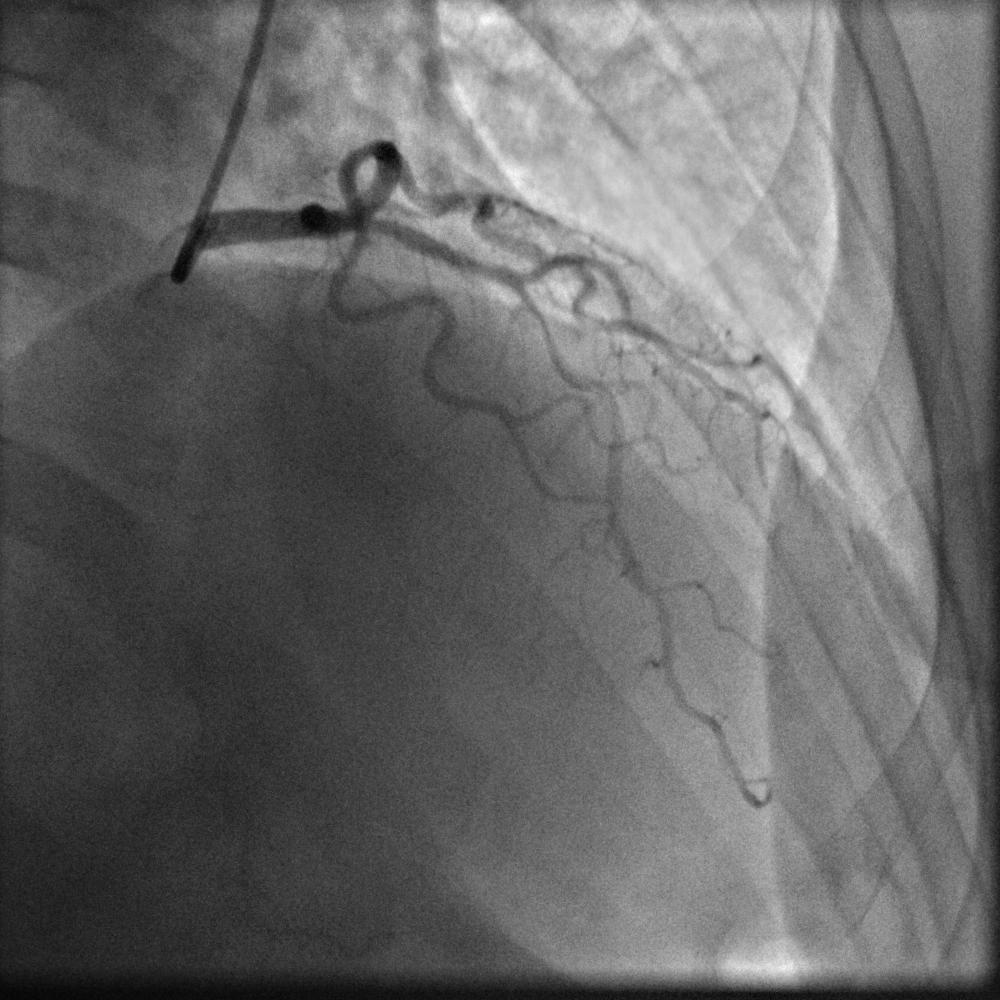Stenosis: (521, 295, 564, 361)
